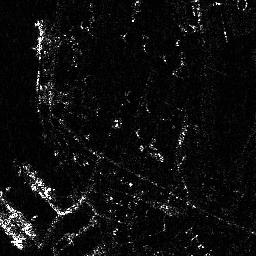ship: (21, 162, 57, 201)
